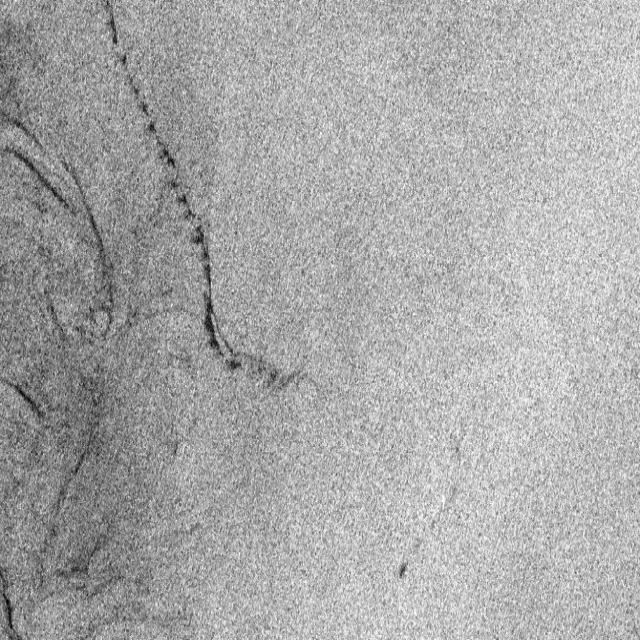look-alike: (2, 104, 120, 355), (56, 372, 103, 520), (53, 531, 122, 607), (2, 363, 50, 432), (2, 560, 30, 636)
oil-spill: (101, 4, 321, 404), (397, 445, 468, 585)
